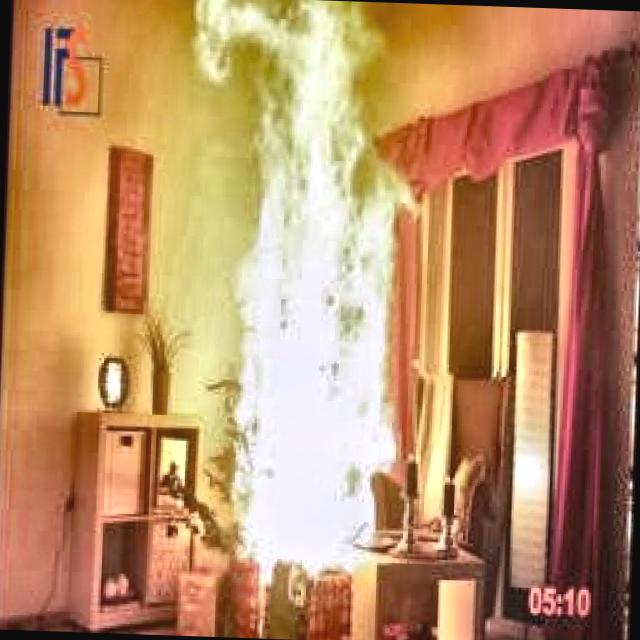fire: (151, 0, 434, 575)
